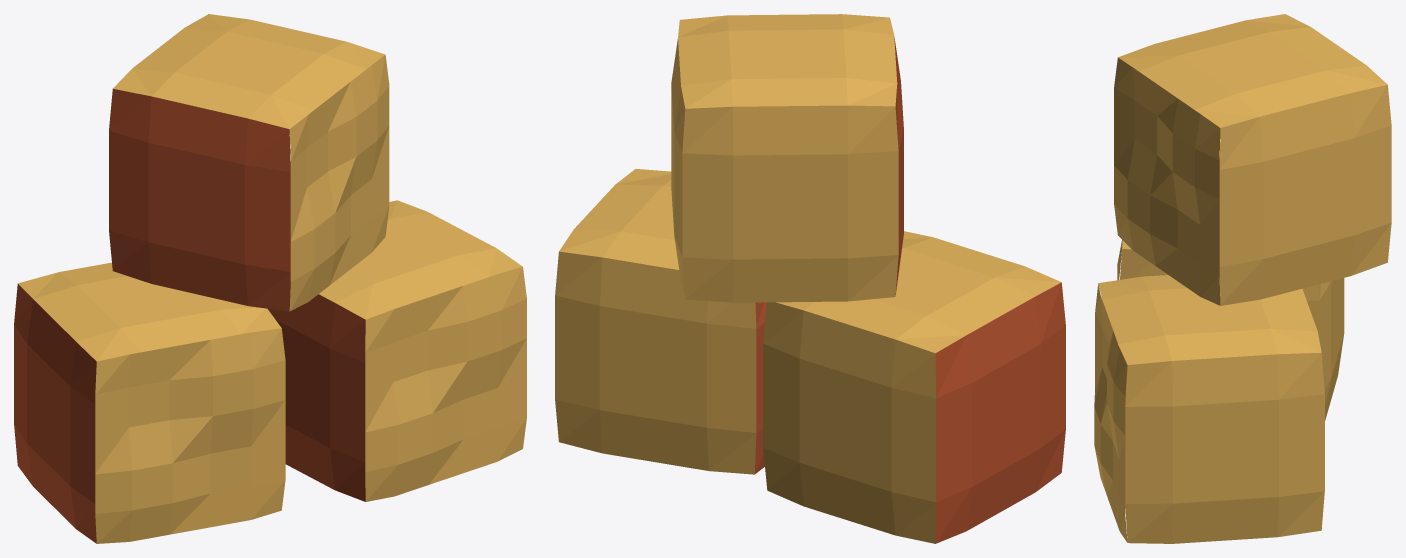
Rendered from cheese.glb.
3 views of the same model, side by side, from view 1: azimuth 30°, elevation 25°; view 2: azimuth 150°, elevation 25°; view 3: azimuth 270°, elevation 25° (orthographic). The views are drawn at different scales.
Size of the model in its own units: 2.22 by 2 by 1.39.
